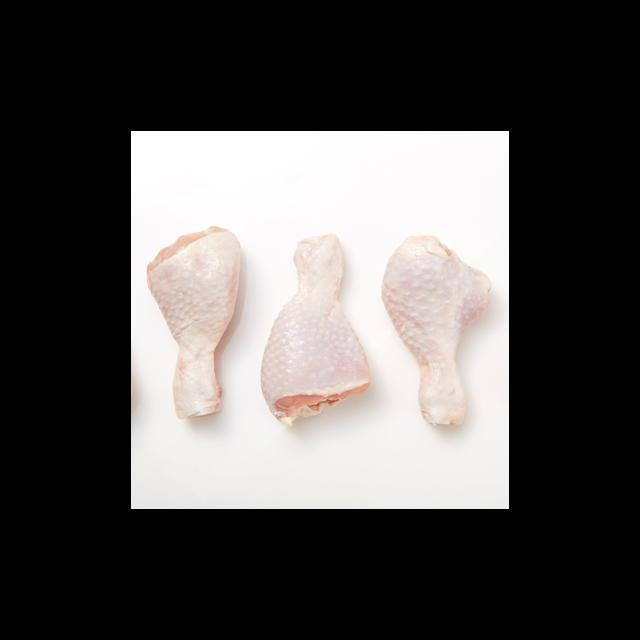chicken: (259, 232, 373, 428), (381, 234, 492, 427), (145, 223, 243, 420)
